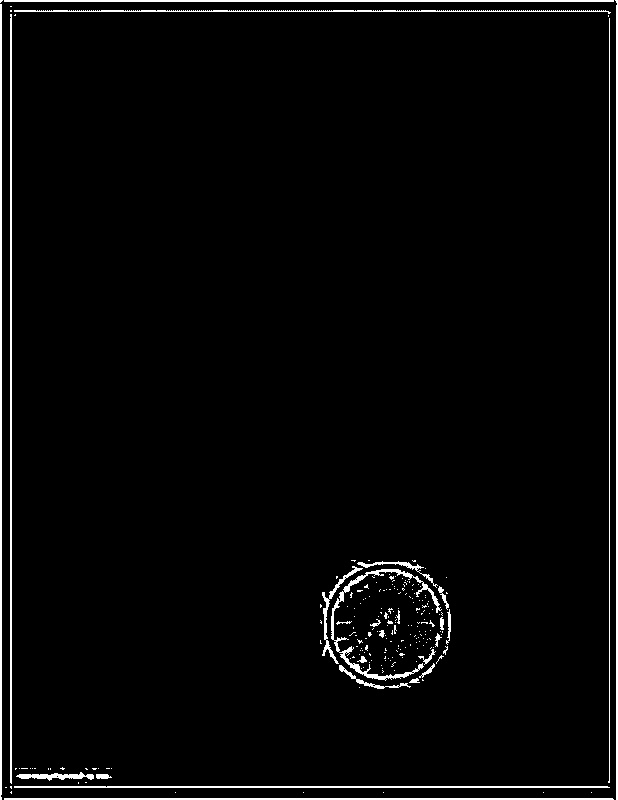Round chop: (323, 559, 452, 692)
